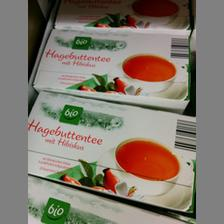Tee: (26, 90, 194, 214), (32, 27, 192, 111)
